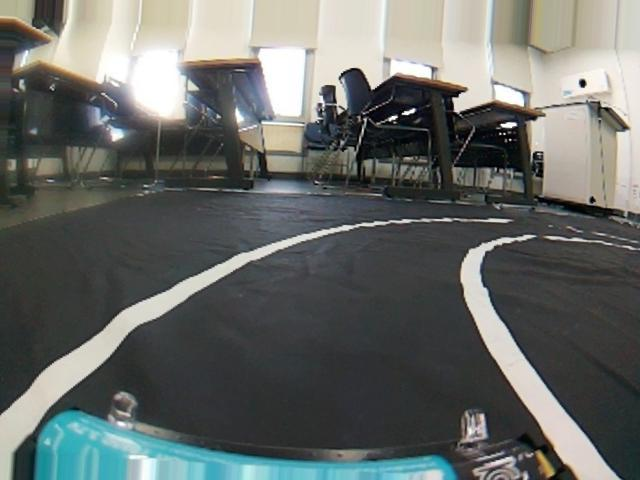straight: (0, 244, 640, 480)
